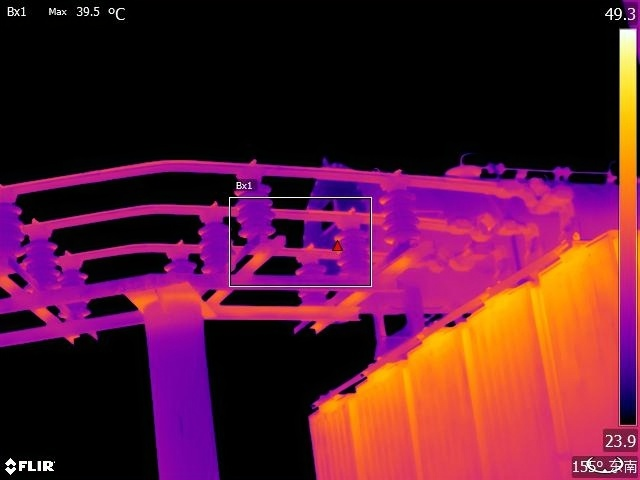post insulator: (232, 180, 282, 246), (376, 182, 422, 248), (325, 217, 369, 276), (23, 238, 66, 295), (196, 220, 237, 275), (1, 198, 32, 263), (291, 255, 328, 308), (57, 267, 92, 318)
transformer: (291, 224, 617, 480)
